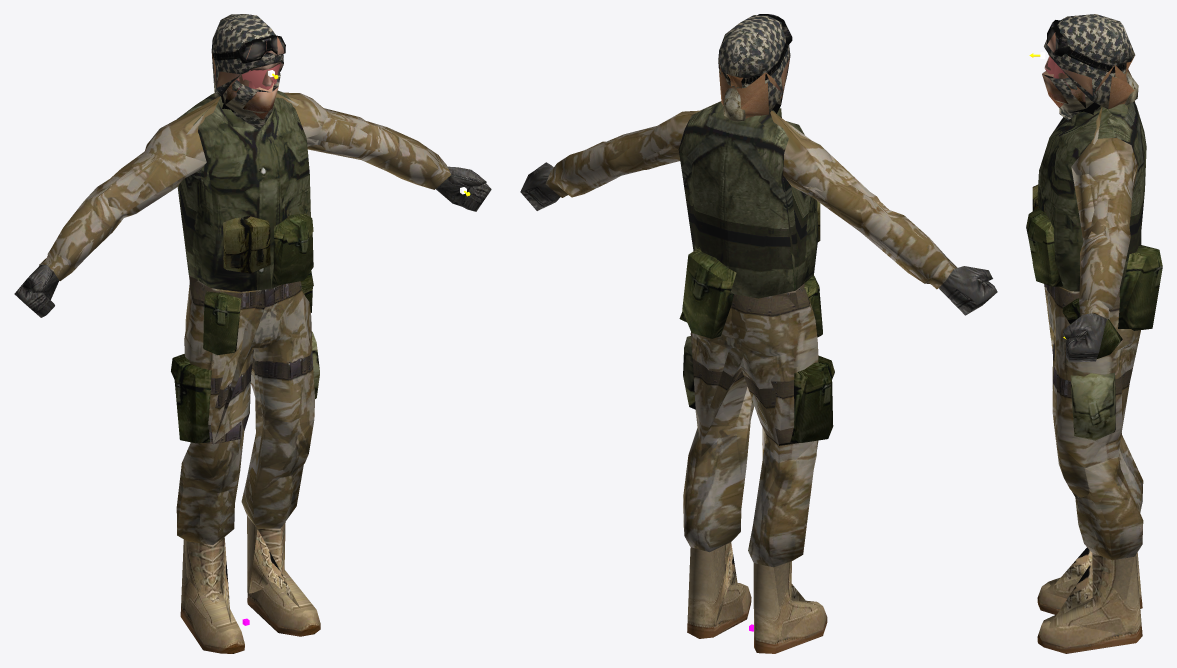
The model's file is SAS4.glb.
3 renders of one model, left to right at view 1: azimuth 30°, elevation 25°; view 2: azimuth 150°, elevation 25°; view 3: azimuth 270°, elevation 25°, orthographic.
Parts seen in each view (by area): view 1: 01 Mesh0, 01 Mesh0.002, 01 Mesh0.001, 01 Mesh0.003, 01 Mesh1, 01 Mesh1.001; view 2: 01 Mesh0, 01 Mesh0.002, 01 Mesh0.001, 01 Mesh0.003, 01 Mesh1, 01 Mesh1.001, 01 Mesh1.002; view 3: 01 Mesh0, 01 Mesh0.001, 01 Mesh0.002, 01 Mesh1, 01 Mesh0.003, 01 Mesh1.001, 01 Mesh1.002.
Boxes of the visible parts, box(x1,y1,x2,y2) form: 01 Mesh0: box(14, 90, 491, 653); 01 Mesh0.002: box(22, 95, 478, 633); 01 Mesh0.001: box(28, 99, 481, 601); 01 Mesh0.003: box(86, 93, 382, 624); 01 Mesh1: box(211, 14, 285, 129); 01 Mesh1.001: box(216, 36, 285, 111); 01 Mesh0: box(520, 106, 997, 653); 01 Mesh0.002: box(568, 101, 985, 653); 01 Mesh0.001: box(534, 125, 992, 469); 01 Mesh0.003: box(661, 101, 892, 623); 01 Mesh1: box(718, 14, 792, 121); 01 Mesh1.001: box(719, 57, 790, 118); 01 Mesh1.002: box(718, 62, 782, 113); 01 Mesh0: box(1026, 101, 1162, 653); 01 Mesh0.001: box(1052, 133, 1162, 605); 01 Mesh0.002: box(1028, 106, 1143, 642); 01 Mesh1: box(1042, 14, 1138, 120); 01 Mesh0.003: box(1044, 106, 1137, 618); 01 Mesh1.001: box(1042, 28, 1134, 112); 01 Mesh1.002: box(1042, 62, 1131, 114).
Bounding box in the file's own units: 1.6 × 2 × 0.4071.
Materials: 7 (3 with a texture image).
